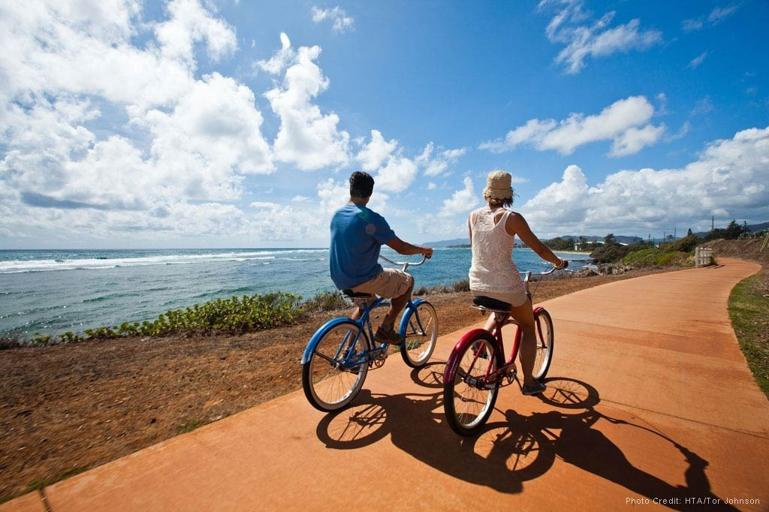non-vehicle: (442, 260, 567, 437), (301, 254, 438, 412)
